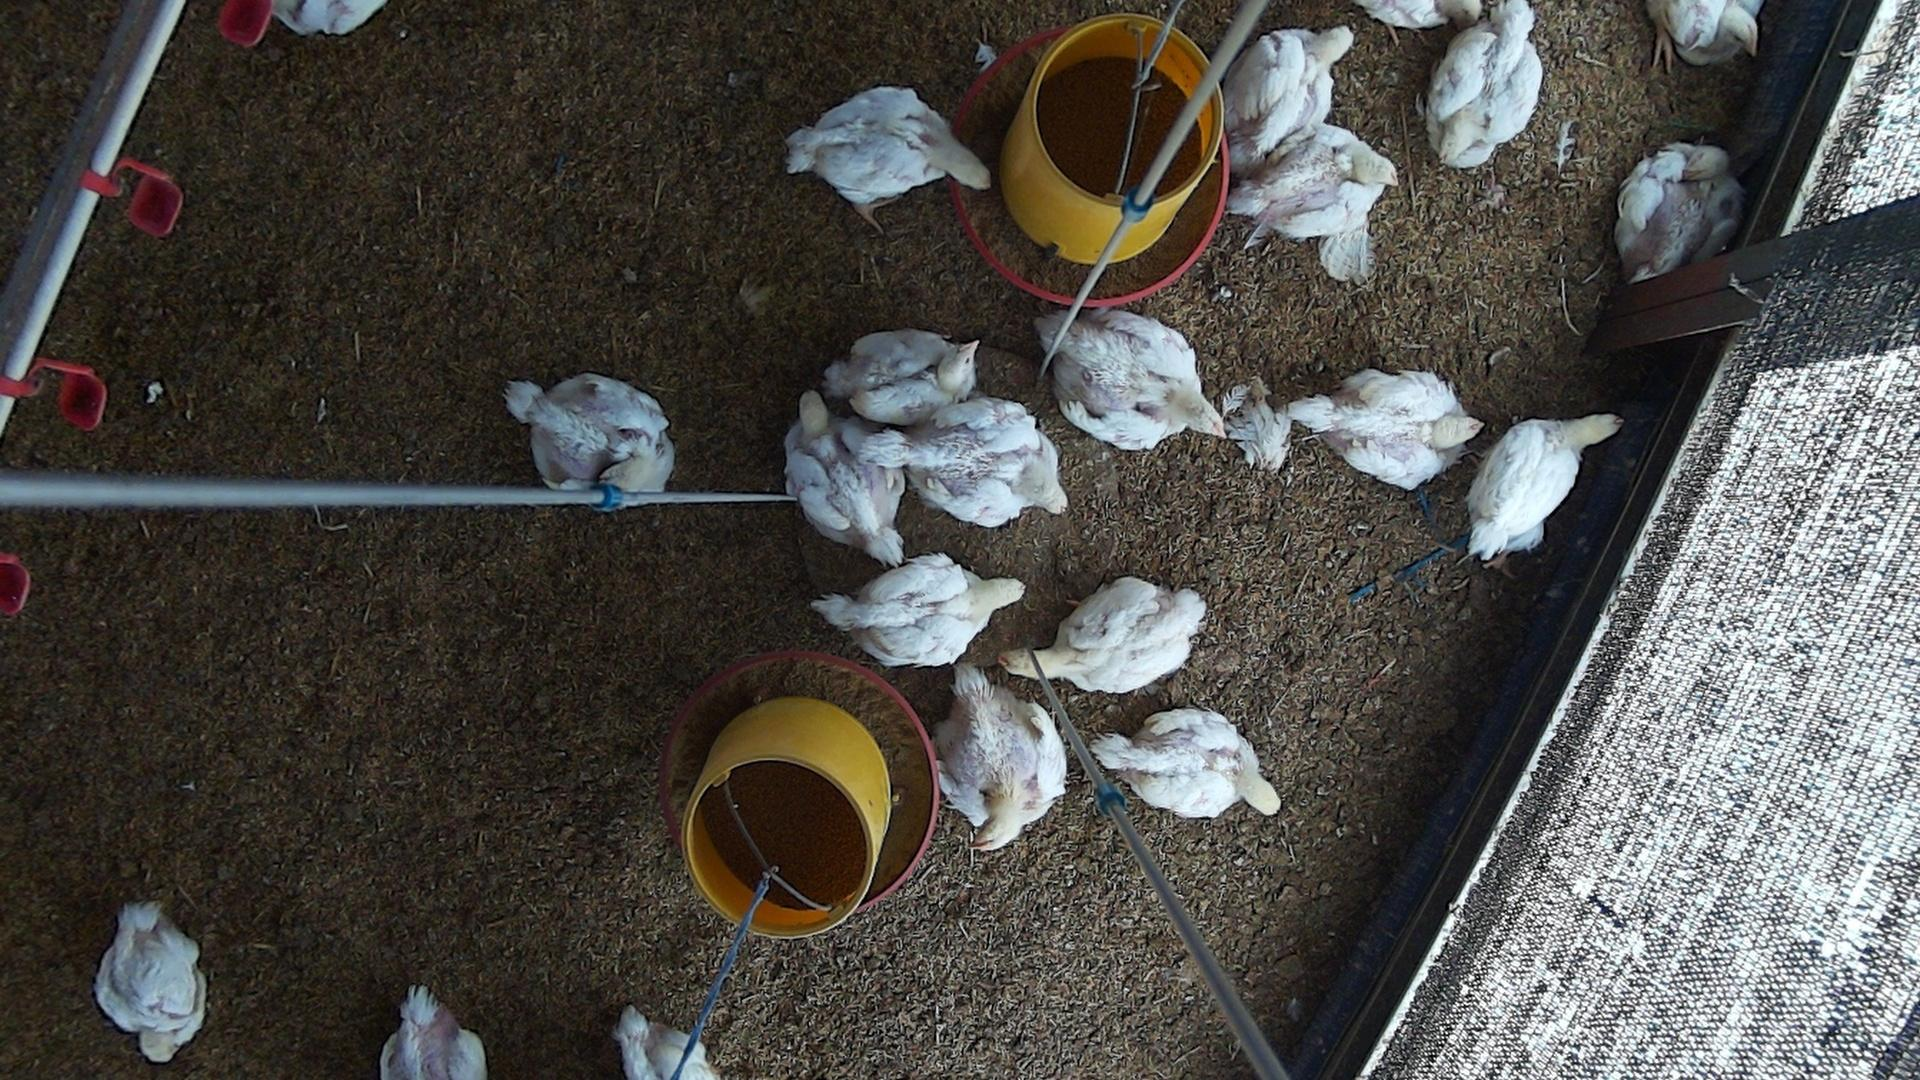ayam_broiler: (785, 87, 992, 235), (1038, 305, 1222, 452), (872, 398, 1067, 529), (927, 669, 1068, 845), (1286, 369, 1482, 491), (814, 556, 1023, 669), (1465, 415, 1619, 564), (785, 392, 906, 567), (1092, 708, 1279, 819), (1030, 578, 1205, 694), (502, 375, 673, 492), (1226, 125, 1395, 243), (1427, 0, 1543, 169), (1216, 24, 1353, 166), (95, 903, 206, 1064), (1615, 142, 1741, 281), (825, 331, 976, 426), (380, 986, 487, 1080), (613, 1006, 715, 1080), (1656, 0, 1759, 69)
